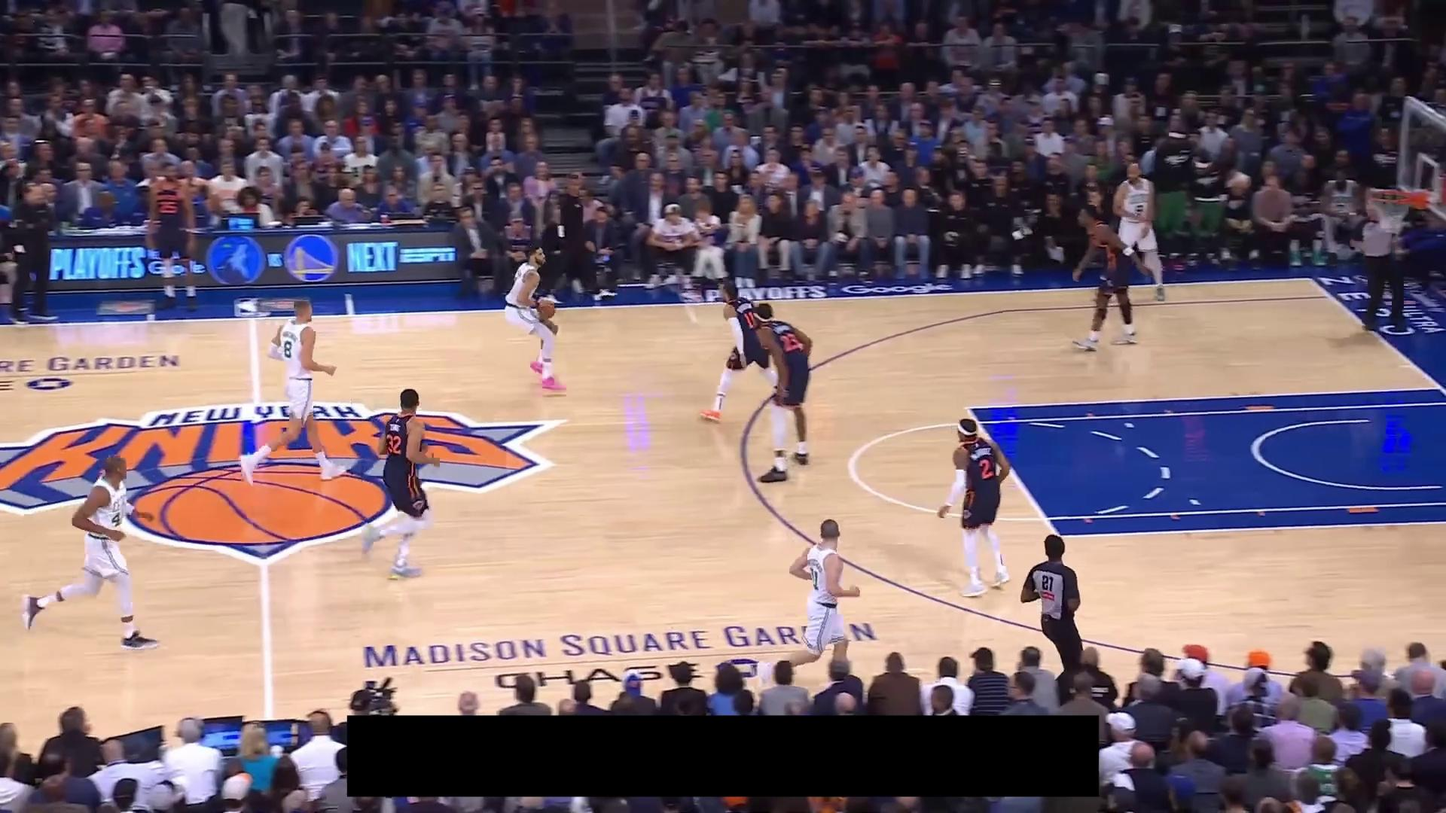ball: (538, 297, 556, 319)
number: (781, 333, 801, 352), (386, 434, 402, 455), (979, 458, 993, 480), (810, 568, 820, 590), (743, 311, 755, 328), (283, 340, 292, 358)
player: (19, 449, 162, 653), (239, 296, 349, 487), (753, 516, 864, 694), (359, 387, 442, 582), (932, 413, 1016, 600), (699, 281, 790, 424), (1069, 203, 1155, 353), (748, 302, 813, 485), (1109, 160, 1168, 306)
player-in-possession: (502, 240, 568, 393)
referee: (1020, 533, 1088, 678), (1350, 205, 1411, 331)
rim: (1367, 187, 1412, 204)
